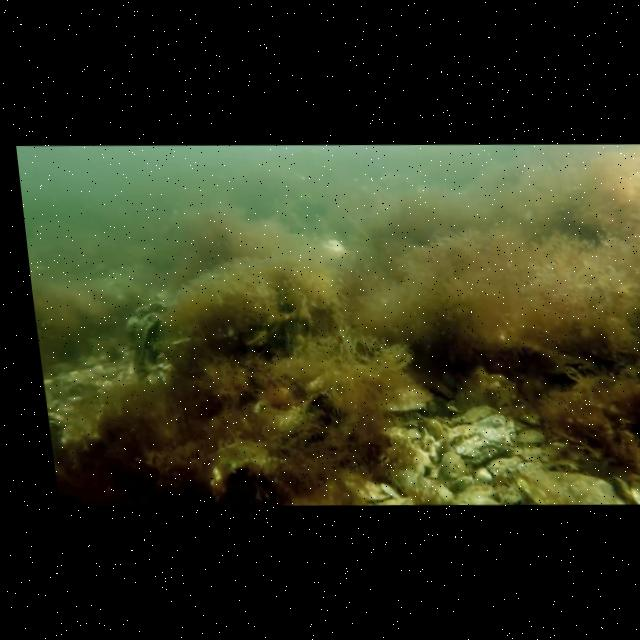Oyster-Closed: (121, 300, 170, 379)
Oyster-Indeterminate: (379, 378, 437, 415)
